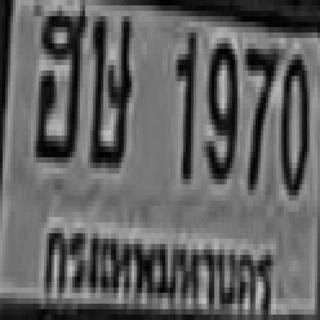A39: (88, 11, 129, 163)
A44: (34, 3, 85, 155)
N00: (279, 49, 307, 190)
N01: (174, 24, 195, 176)
N07: (242, 44, 276, 184)
N09: (204, 38, 235, 179)
P04: (40, 215, 276, 320)
